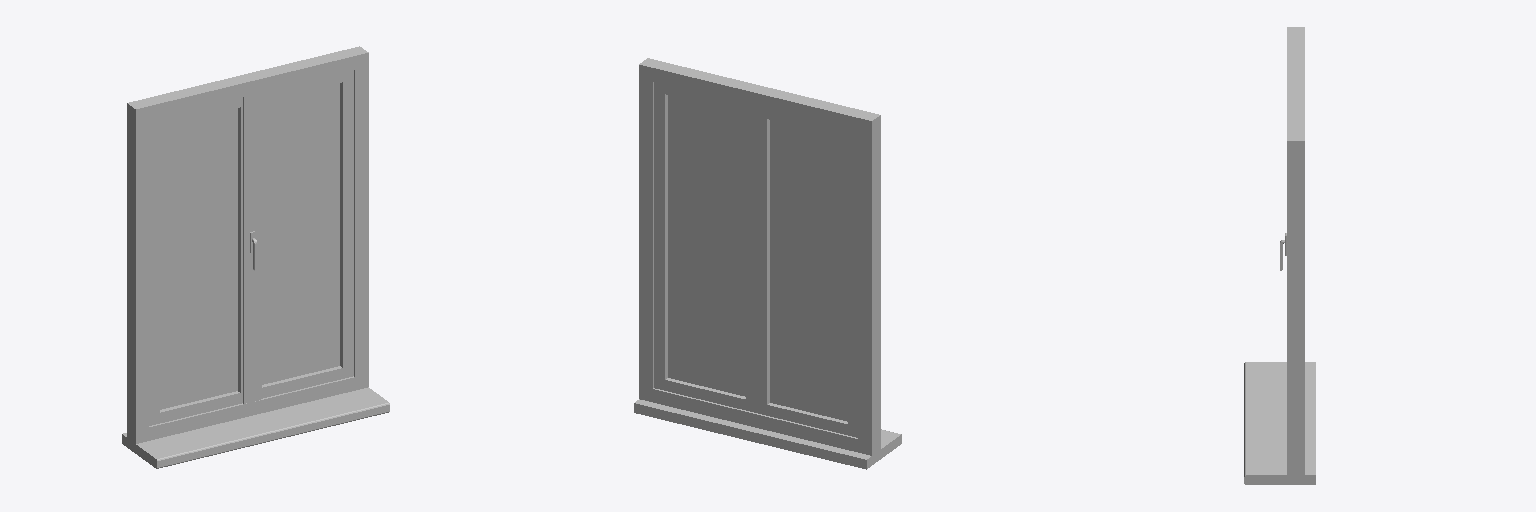
The model's file is window.obj.
3 views of the same model, side by side, from view 1: azimuth 30°, elevation 25°; view 2: azimuth 150°, elevation 25°; view 3: azimuth 270°, elevation 25° (orthographic).
Visible parts, largest first — view 1: 8.0.249.0; view 2: 8.0.249.0; view 3: 8.0.249.0.
Boxes of the visible parts, x1,y1,x2,y2 form: 8.0.249.0: [122, 46, 389, 468]; 8.0.249.0: [634, 58, 901, 469]; 8.0.249.0: [1244, 27, 1315, 484].
Bounding box in the file's own units: 9.96 × 14.08 × 2.64.